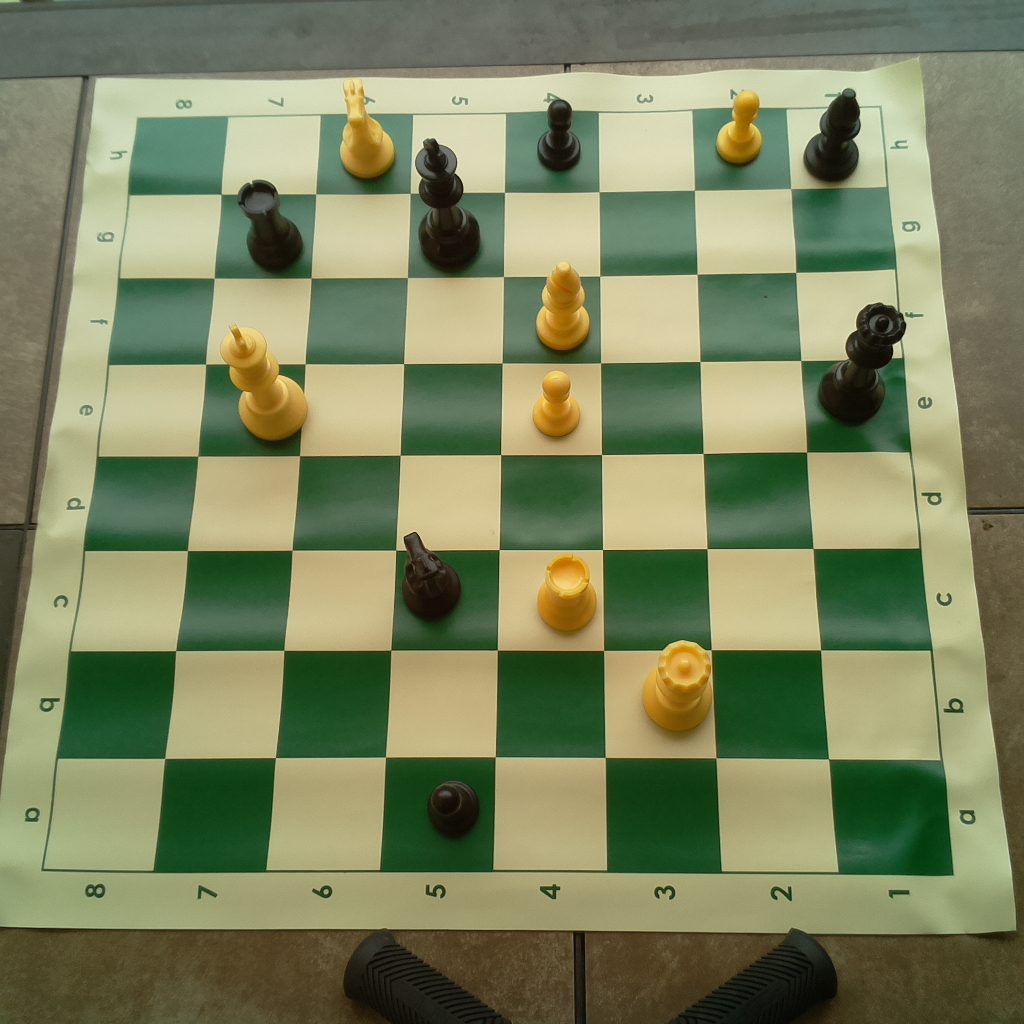black_bishop: (801, 86, 864, 187)
black_king: (411, 132, 485, 271)
black_knight: (399, 525, 467, 625)
black_pawn: (534, 92, 592, 177), (420, 770, 485, 838)
black_queen: (814, 295, 910, 432)
black_rook: (236, 173, 306, 269)
file_a: (44, 757, 954, 875)
file_b: (58, 652, 941, 761)
file_c: (66, 549, 932, 651)
file_d: (86, 452, 921, 547)
file_e: (96, 358, 914, 454)
file_f: (110, 267, 907, 358)
file_g: (120, 188, 898, 278)
file_h: (128, 109, 889, 188)
outline: (44, 105, 954, 874)
rank_1: (789, 106, 955, 874)
rank_2: (692, 106, 840, 871)
rank_3: (597, 108, 724, 873)
rank_4: (493, 113, 608, 871)
rank_5: (379, 112, 507, 871)
rank_6: (264, 113, 412, 873)
rank_7: (154, 115, 318, 874)
rank_8: (44, 114, 231, 873)
white_bishop: (527, 258, 594, 356)
white_king: (216, 318, 312, 445)
white_knight: (334, 71, 398, 178)
white_pawn: (715, 88, 768, 166), (529, 373, 586, 439)
white_queen: (638, 638, 720, 738)
white_rook: (533, 548, 599, 638)
